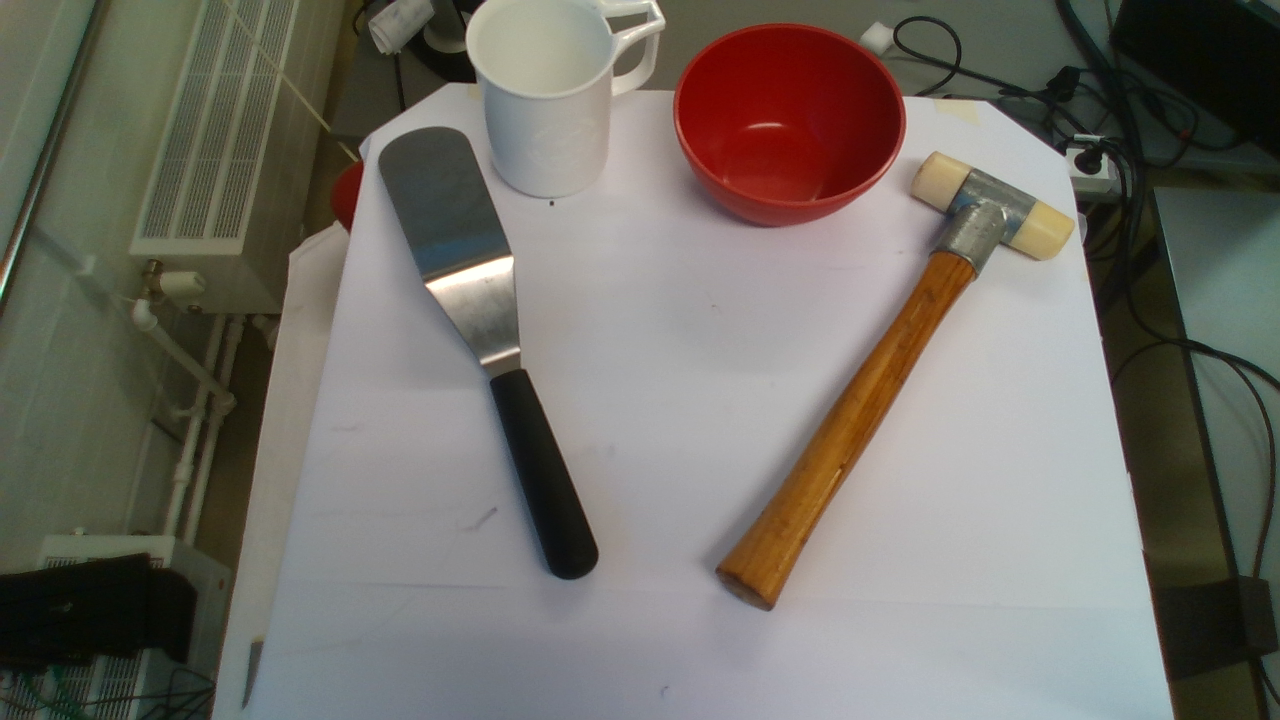bowl: (672, 25, 906, 232)
cup: (465, 1, 663, 198)
hammer: (714, 150, 1079, 613)
spatula: (378, 126, 600, 584)
